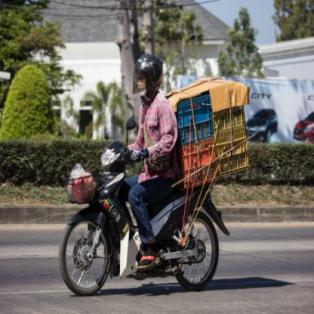Motocicleta: (59, 129, 222, 296)
